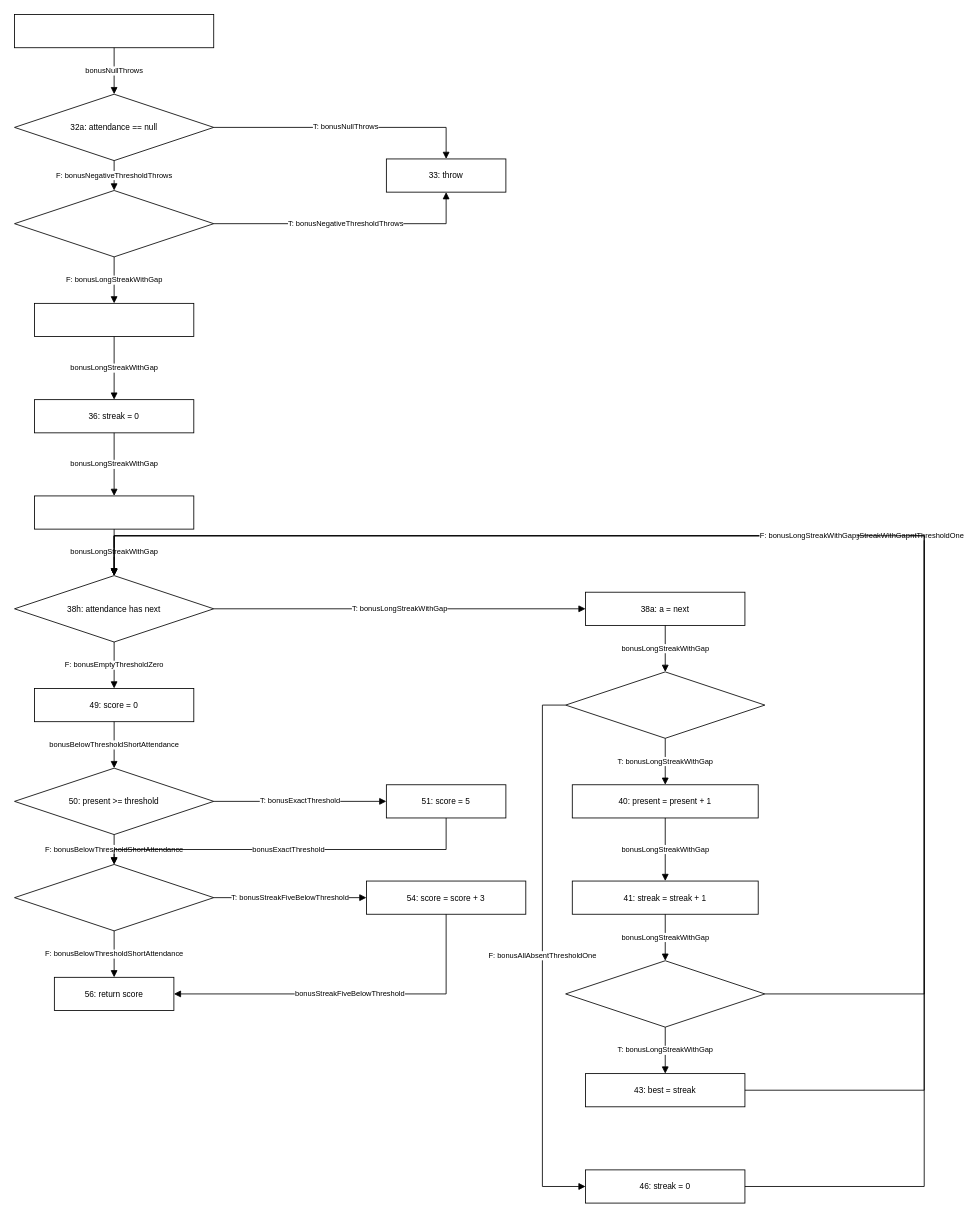
Some shapes in this 979 by 1218 pixel diagram are drawn without their labels. Here are the shapes that lost their labels. From the top down, the box of each, then its label:
(14, 14, 214, 48): 31: def attendance, threshold
(14, 190, 214, 257): 32b: threshold < 0
(34, 303, 194, 337): 35: present = 0
(34, 495, 194, 529): 37: best = 0
(565, 671, 765, 738): 39: a > 0
(14, 864, 214, 931): 53: best >= 5
(565, 960, 765, 1027): 42: streak > best
